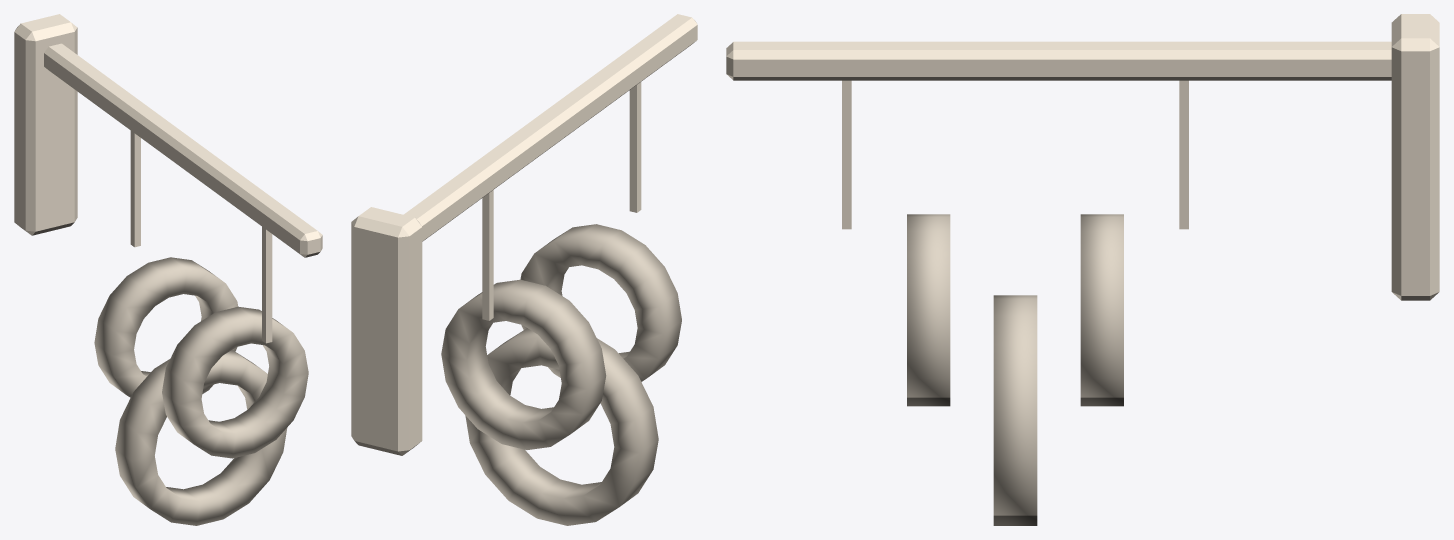
File: SM_VK_Prop_BakerySign.fbx
The picture shows the model from 3 angles, left to right: view 1: azimuth 30°, elevation 25°; view 2: azimuth 150°, elevation 25°; view 3: azimuth 270°, elevation 25°; orthographic projection. The views are drawn at different scales.
Parts seen in each view (by area): view 1: SM_VK_Prop_BakerySign.001; view 2: SM_VK_Prop_BakerySign.001; view 3: SM_VK_Prop_BakerySign.001.
Boxes of the visible parts, bbox=[...] form: SM_VK_Prop_BakerySign.001: bbox=[14, 14, 322, 525]; SM_VK_Prop_BakerySign.001: bbox=[351, 14, 697, 525]; SM_VK_Prop_BakerySign.001: bbox=[726, 14, 1439, 525].
Size of the model in its own units: 0.48 by 1.12 by 1.48.
